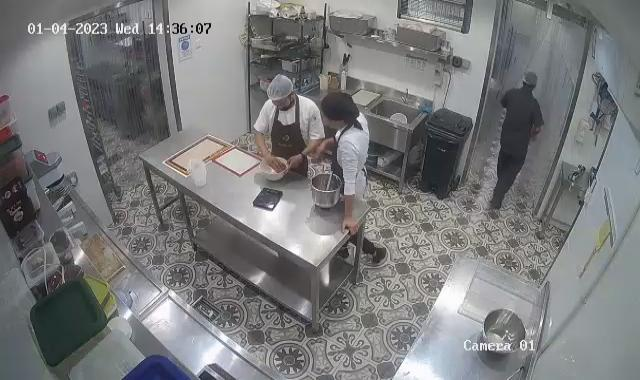hairnet: (264, 74, 299, 105), (523, 70, 540, 92)
no_hairnet: (320, 90, 363, 125)
